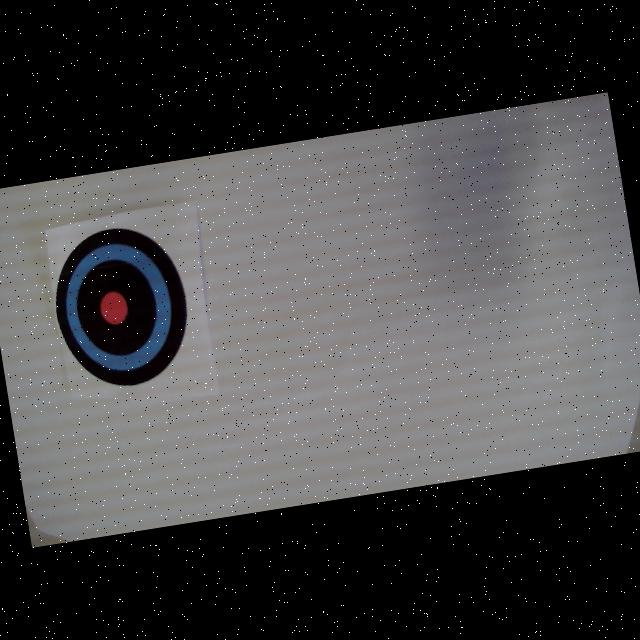COGNITIVE: (44, 218, 198, 396)
